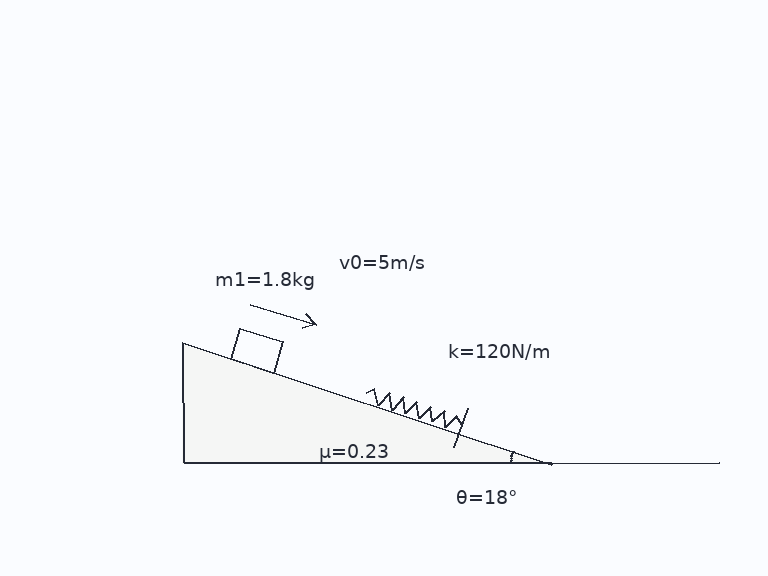block: (228, 326, 284, 374)
ramp: (181, 341, 553, 465)
spring: (364, 387, 464, 429)
